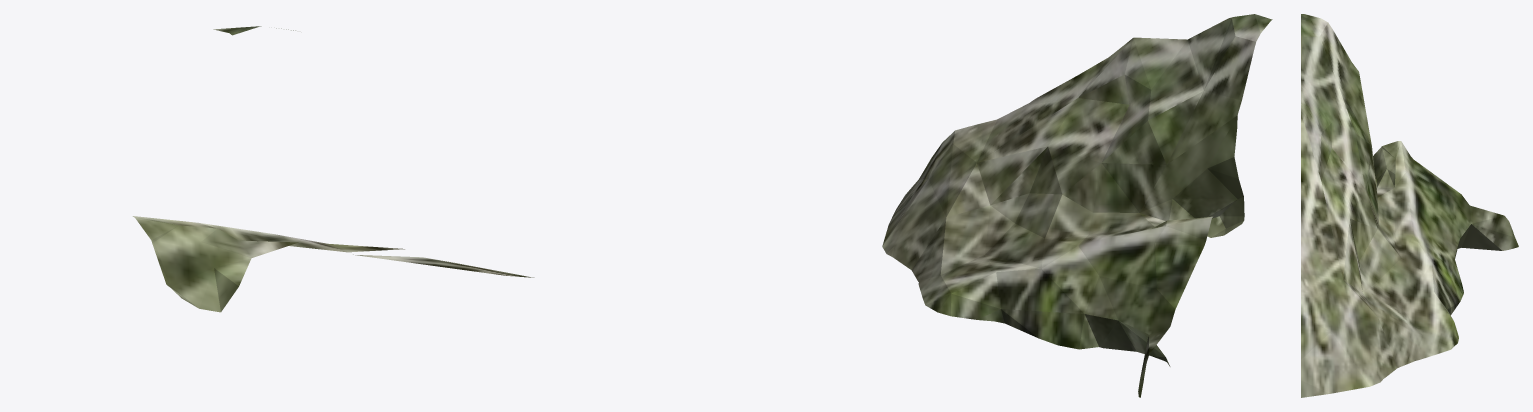
3 renders of one model, left to right at view 1: azimuth 30°, elevation 25°; view 2: azimuth 150°, elevation 25°; view 3: azimuth 270°, elevation 25°, orthographic. The views are drawn at different scales.
Size of the model in its own units: 1.48 by 1.06 by 0.8995.
1 material, 1 textured.
